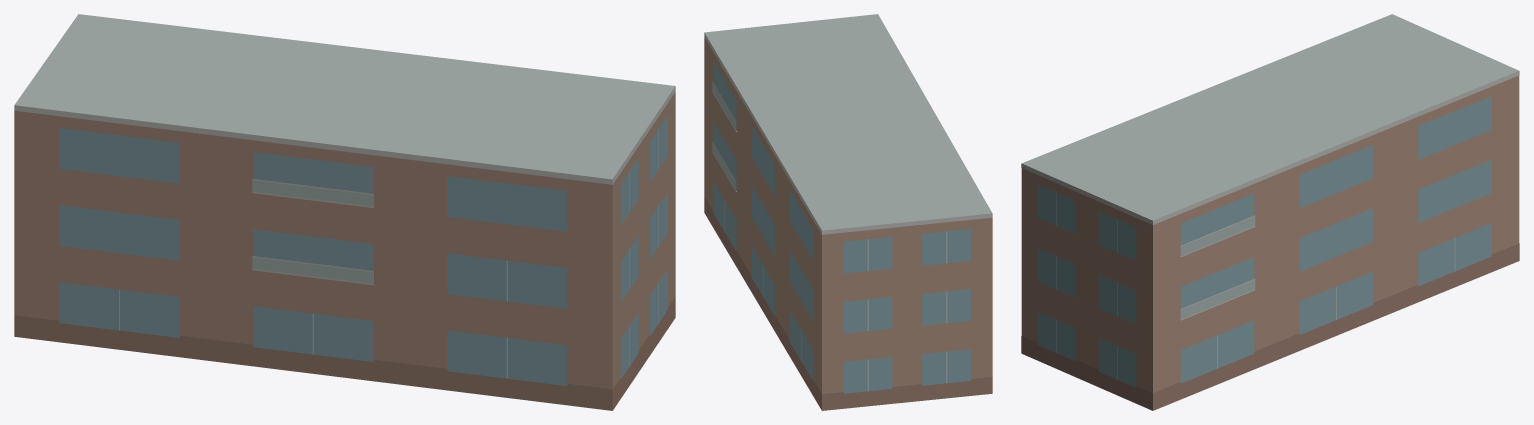
Rendered from survey-upis-32659067.glb.
3 views of the same model, side by side, from view 1: azimuth 30°, elevation 25°; view 2: azimuth 150°, elevation 25°; view 3: azimuth 270°, elevation 25° (orthographic). The views are drawn at different scales.
Visible parts, largest first — view 1: survey-upis-32659067.tmp; view 2: survey-upis-32659067.tmp; view 3: survey-upis-32659067.tmp.
Part boxes in pixels (x1,y1,x2,y2): survey-upis-32659067.tmp: (14,14,675,410); survey-upis-32659067.tmp: (704,14,992,410); survey-upis-32659067.tmp: (1021,14,1519,410).
Bounding box in the file's own units: 24.19 × 10.37 × 24.61.
